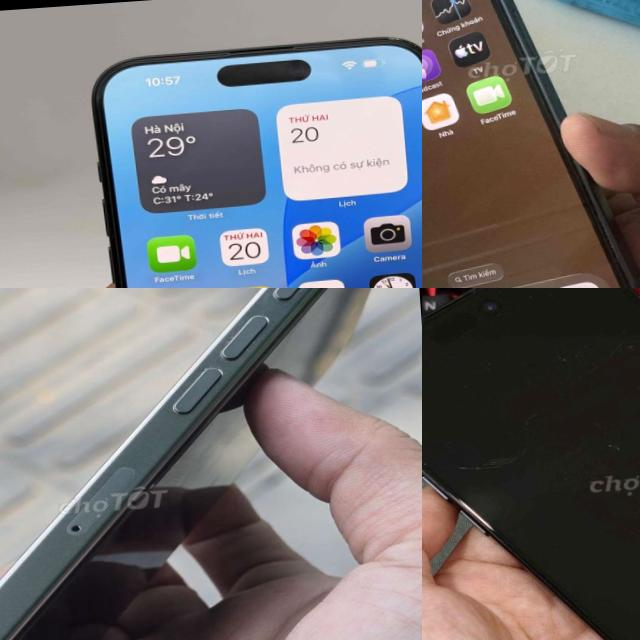gen_12_13: (422, 0, 640, 288)
gen_15: (52, 22, 422, 288), (422, 288, 640, 640)
gen_16: (0, 288, 371, 640)
